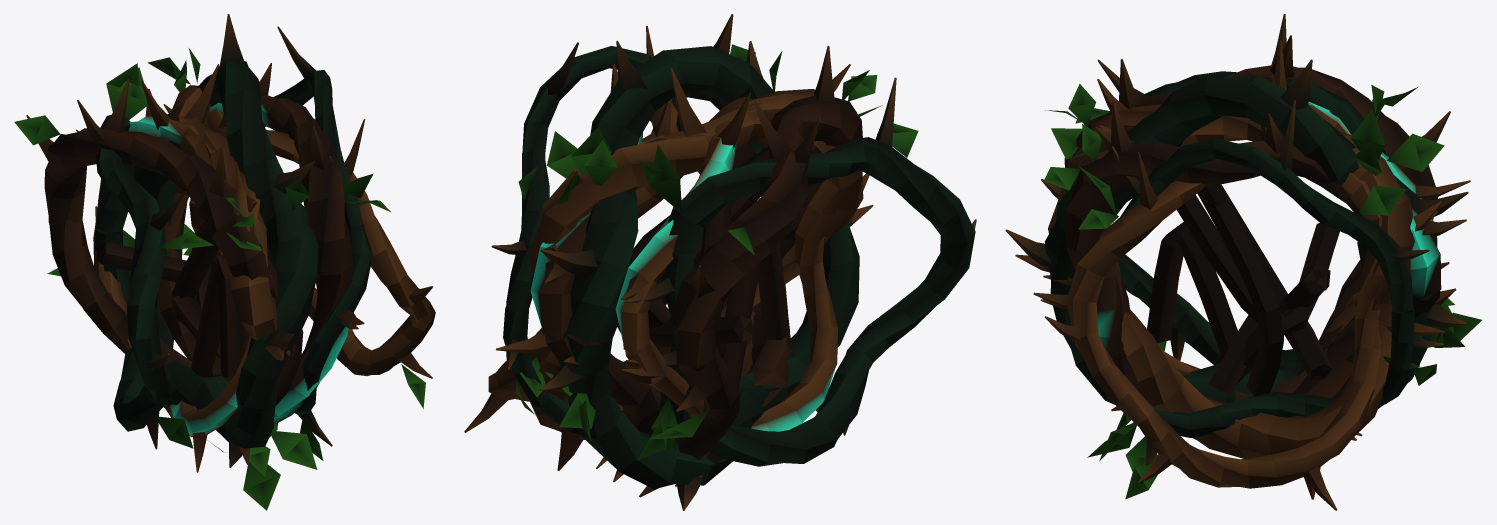
The model's file is SM_VineWheel_E.fbx.
3 renders of one model, left to right at view 1: azimuth 30°, elevation 25°; view 2: azimuth 150°, elevation 25°; view 3: azimuth 270°, elevation 25°, orthographic. The views are drawn at different scales.
Visible parts, largest first — view 1: SM_VineWheel_E; view 2: SM_VineWheel_E; view 3: SM_VineWheel_E.
Boxes of the visible parts, x1=… form: SM_VineWheel_E: x1=14, y1=14, x2=435, y2=510; SM_VineWheel_E: x1=464, y1=14, x2=976, y2=510; SM_VineWheel_E: x1=1005, y1=14, x2=1481, y2=510.
Bounding box in the file's own units: 1.69 × 1.99 × 1.99.
